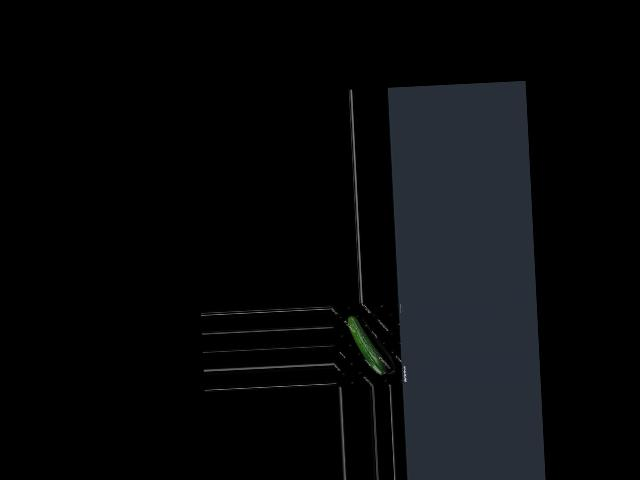cucumber: (347, 313, 388, 376)
